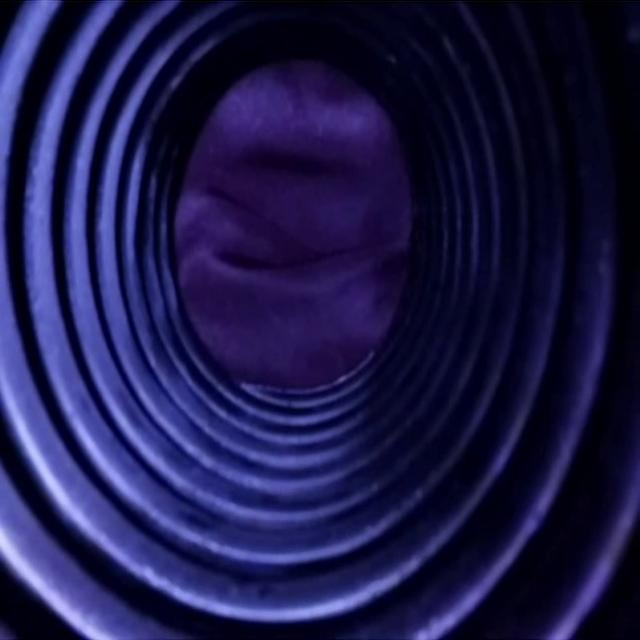block: (171, 63, 413, 382)
